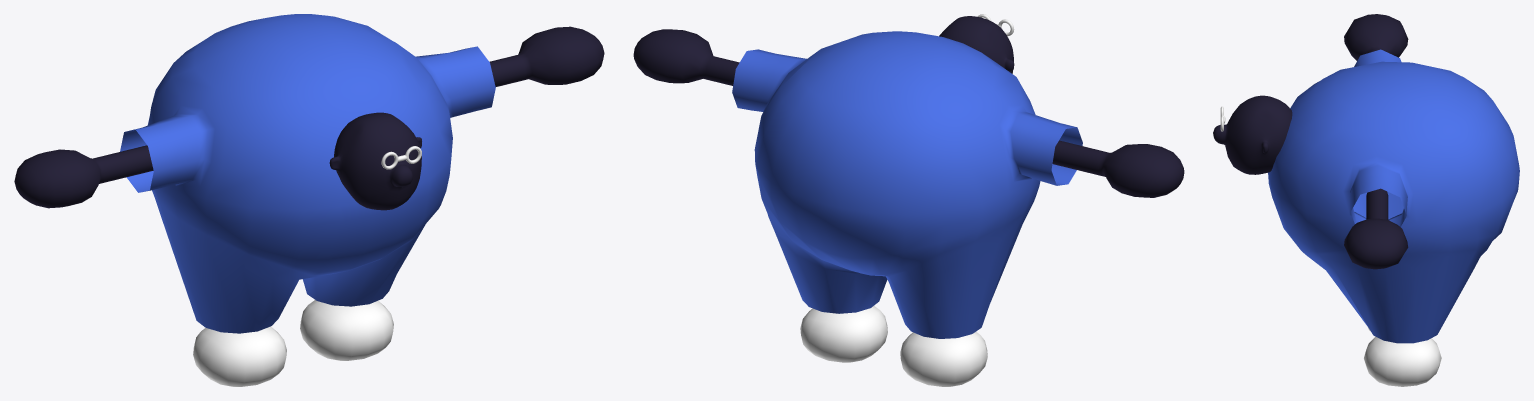
The model's file is Shaman.fbx.
3 renders of one model, left to right at view 1: azimuth 30°, elevation 25°; view 2: azimuth 150°, elevation 25°; view 3: azimuth 270°, elevation 25°, orthographic. The views are drawn at different scales.
Visible parts, largest first — view 1: bodySHAMAN, ArmSHAMAN, feetSHAMAN, HeadSHAMAN; view 2: bodySHAMAN, ArmSHAMAN, feetSHAMAN, HeadSHAMAN; view 3: bodySHAMAN, ArmSHAMAN, HeadSHAMAN, feetSHAMAN.
Part boxes in pixels (left/top/right/bottom): bodySHAMAN: left=120, top=14, right=495, bottom=333; ArmSHAMAN: left=14, top=26, right=604, bottom=208; feetSHAMAN: left=193, top=300, right=393, bottom=386; HeadSHAMAN: left=329, top=112, right=421, bottom=210; bodySHAMAN: left=732, top=31, right=1082, bottom=338; ArmSHAMAN: left=633, top=29, right=1184, bottom=197; feetSHAMAN: left=800, top=306, right=987, bottom=386; HeadSHAMAN: left=939, top=16, right=1014, bottom=73; bodySHAMAN: left=1268, top=49, right=1519, bottom=343; ArmSHAMAN: left=1344, top=14, right=1408, bottom=269; HeadSHAMAN: left=1213, top=95, right=1292, bottom=174; feetSHAMAN: left=1364, top=327, right=1441, bottom=386.
Size of the model in its own units: 834 by 465 by 459.
